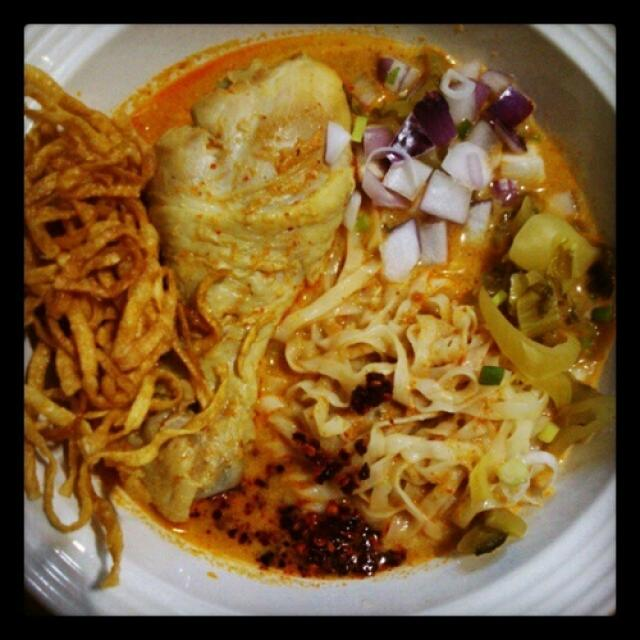面条主食: (27, 28, 617, 602)
